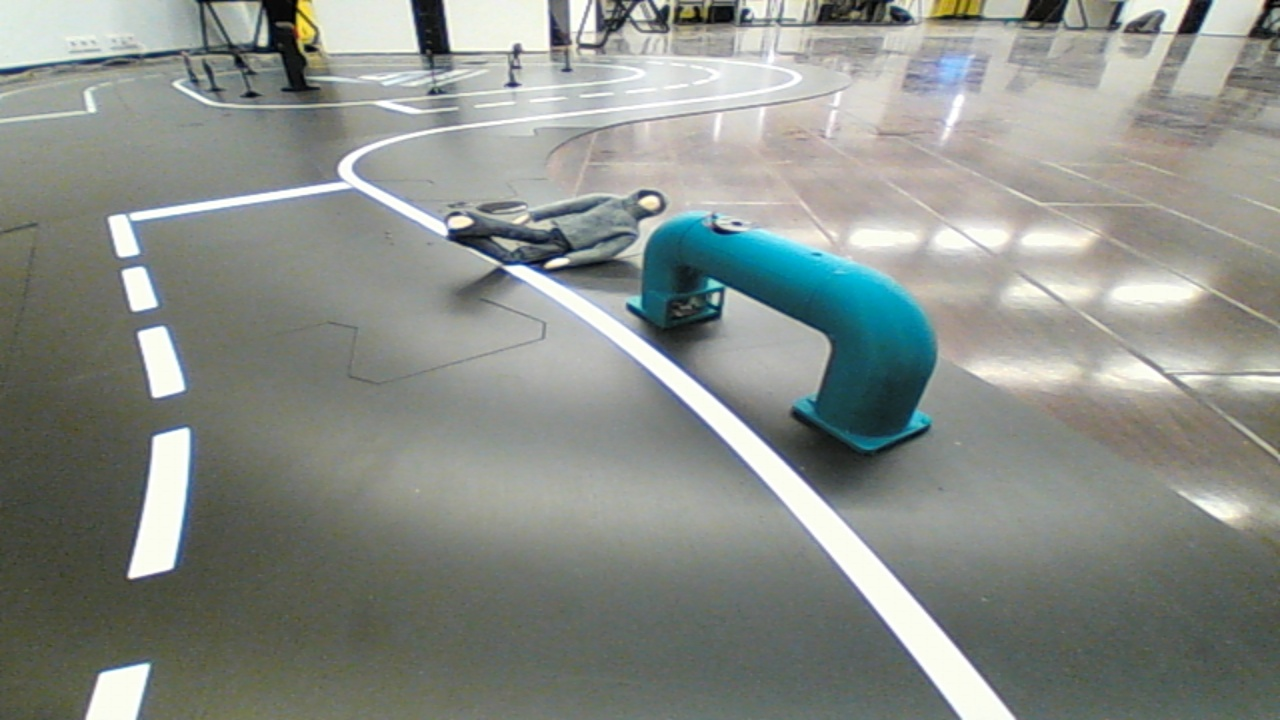Pedestrian crossing: (627, 187, 947, 453)
Road works: (430, 167, 678, 289)
